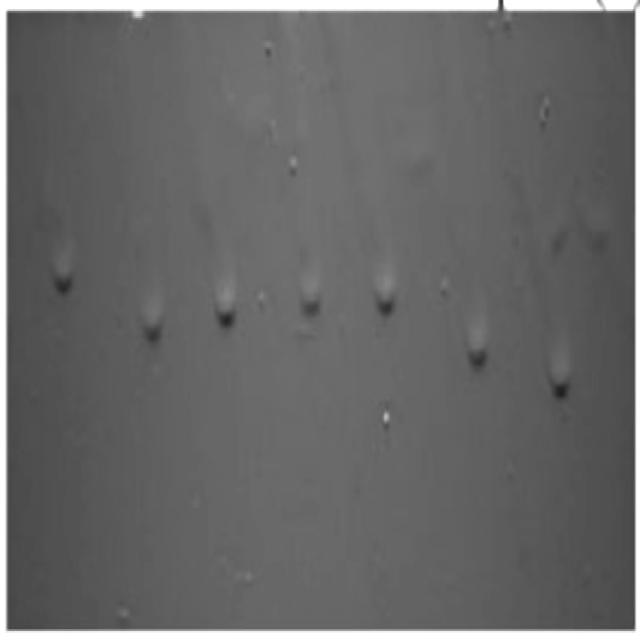paint drips: (451, 36, 628, 463), (285, 35, 430, 375), (131, 37, 254, 374), (24, 28, 112, 378)
